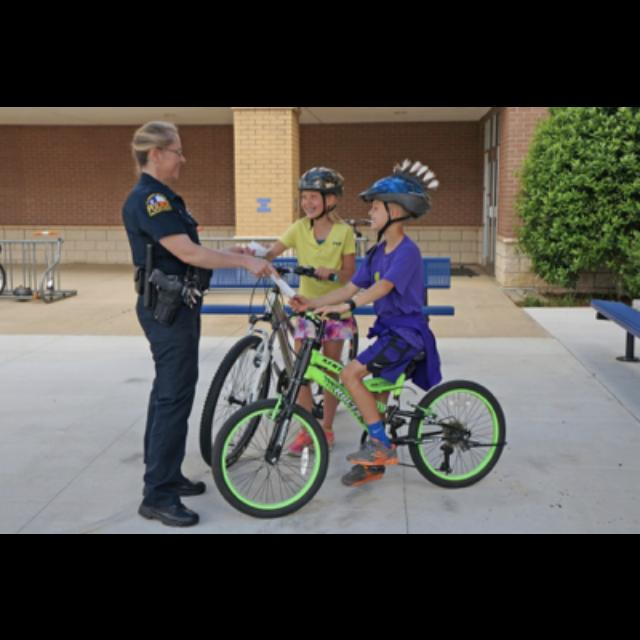With Helmet: (359, 170, 437, 240), (292, 164, 346, 216)
